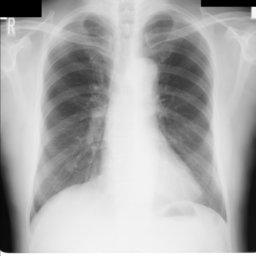left lobe: (145, 11, 226, 220)
right lobe: (33, 14, 112, 218)
